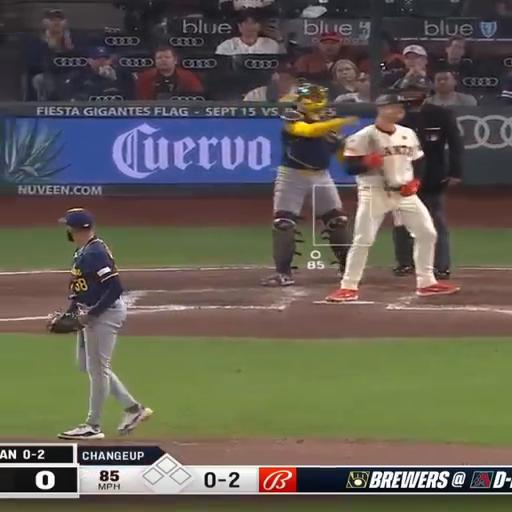bat: (370, 126, 381, 152)
